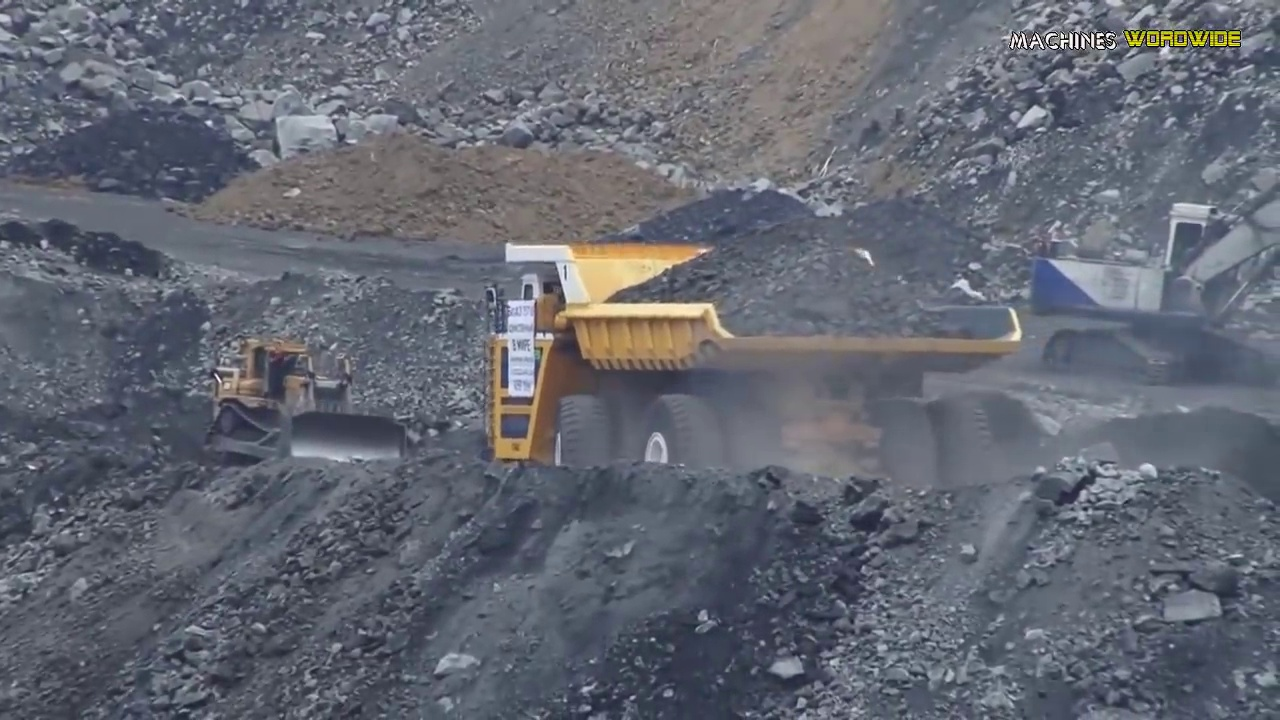bulldozer: (219, 338, 409, 472)
dumper: (488, 235, 1023, 490)
excavator: (1030, 202, 1280, 376)
